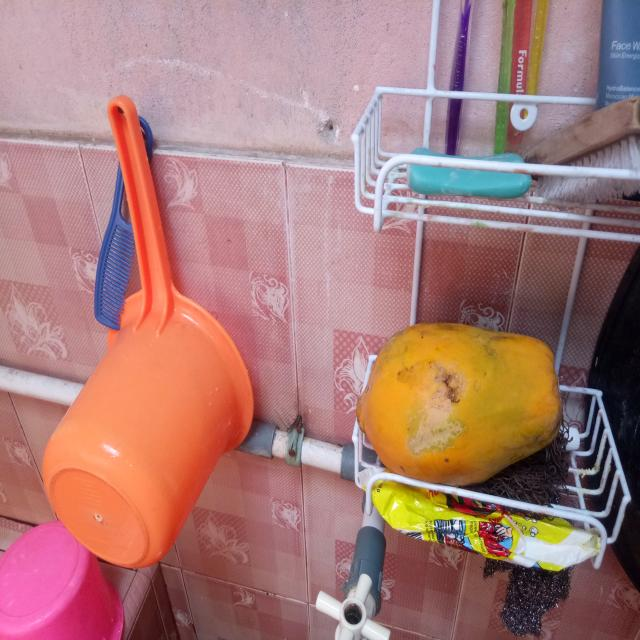Pepaya rippen: (354, 315, 561, 475)
